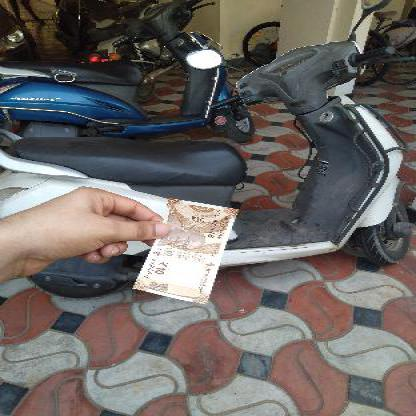New10Front: (134, 192, 238, 306)
